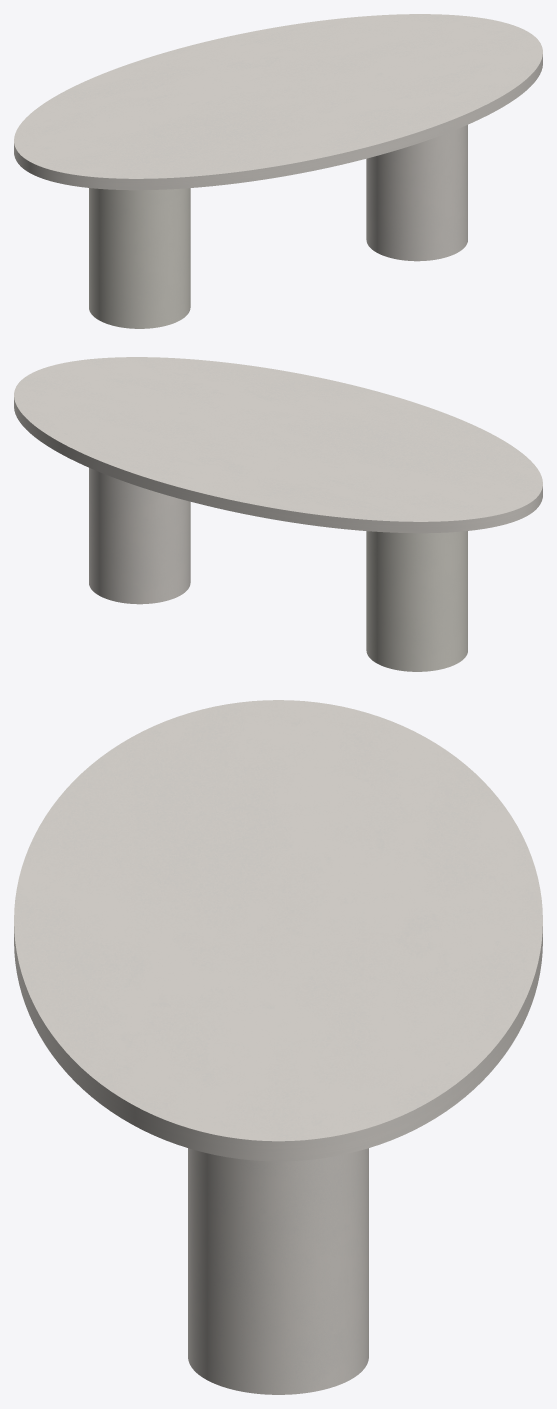
File: pearlwhite_ellips_standard_stream.glb
3 renders of one model, top to bottom at view 1: azimuth 30°, elevation 25°; view 2: azimuth 150°, elevation 25°; view 3: azimuth 270°, elevation 25°, orthographic. The views are drawn at different scales.
Parts seen in each view (by area): view 1: standard_ellips, stream; view 2: standard_ellips, stream; view 3: standard_ellips, stream.
Boxes of the visible parts, left/top/right/bottom form: standard_ellips: left=14, top=14, right=542, bottom=190; stream: left=89, top=125, right=467, bottom=328; standard_ellips: left=14, top=357, right=542, bottom=533; stream: left=89, top=468, right=467, bottom=671; standard_ellips: left=14, top=700, right=542, bottom=1161; stream: left=188, top=1148, right=368, bottom=1394.
Size of the model in its own units: 7.5 by 2.5 by 3.8.
Materials: 2 (2 with a texture image).
